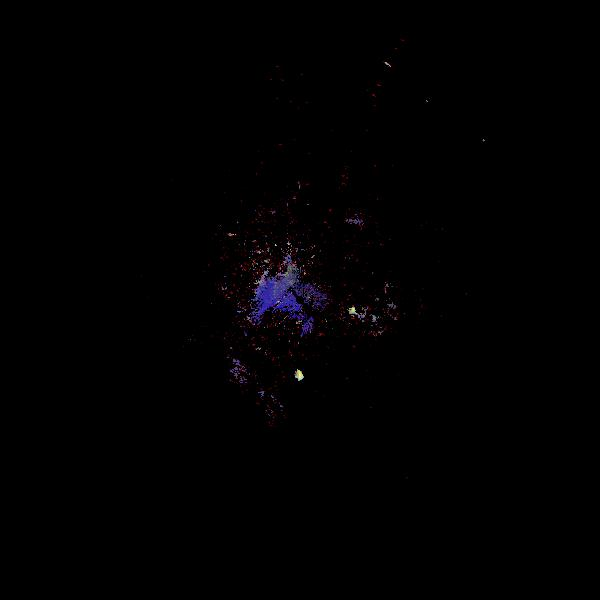roost: (293, 368, 308, 383), (348, 306, 360, 318)
